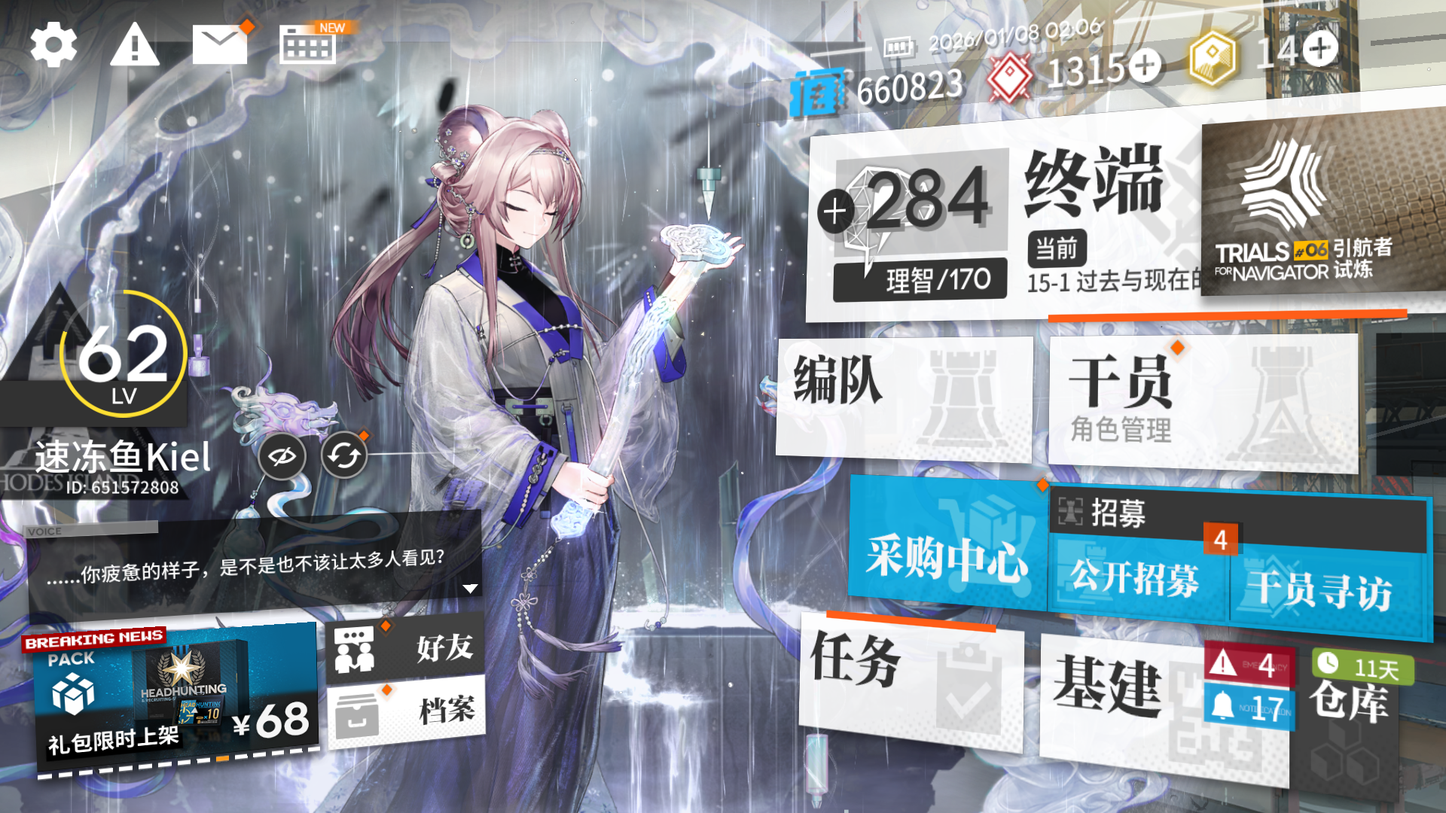home_button: (1022, 132, 1176, 238)
infrastructure_button: (1032, 624, 1288, 790)
